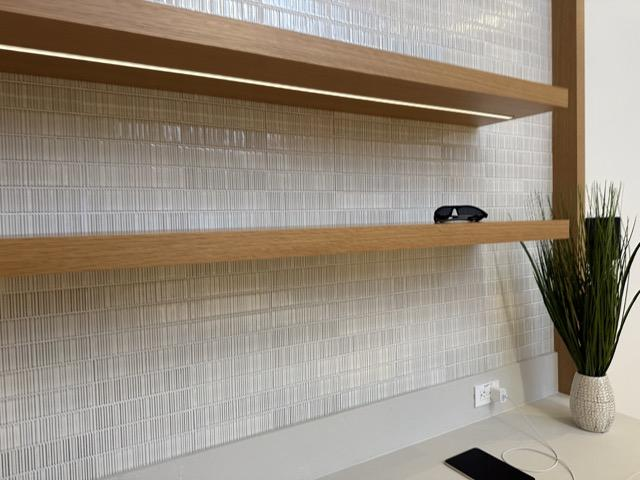Sunglasses: (433, 204, 490, 223)
